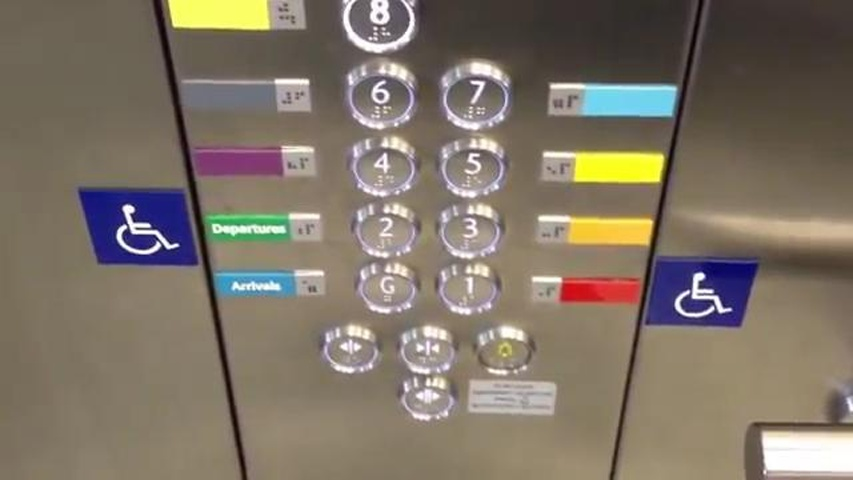1: (435, 258, 504, 315)
2: (351, 201, 423, 261)
3: (436, 199, 506, 260)
4: (347, 134, 419, 199)
5: (435, 132, 509, 199)
6: (341, 58, 420, 130)
7: (435, 58, 513, 132)
8: (340, 1, 419, 54)
CH: (76, 185, 201, 271), (639, 255, 761, 331)
G: (352, 261, 421, 316)
alarm: (473, 324, 537, 376)
close: (397, 324, 459, 374)
open: (398, 374, 462, 422), (321, 324, 381, 374)
